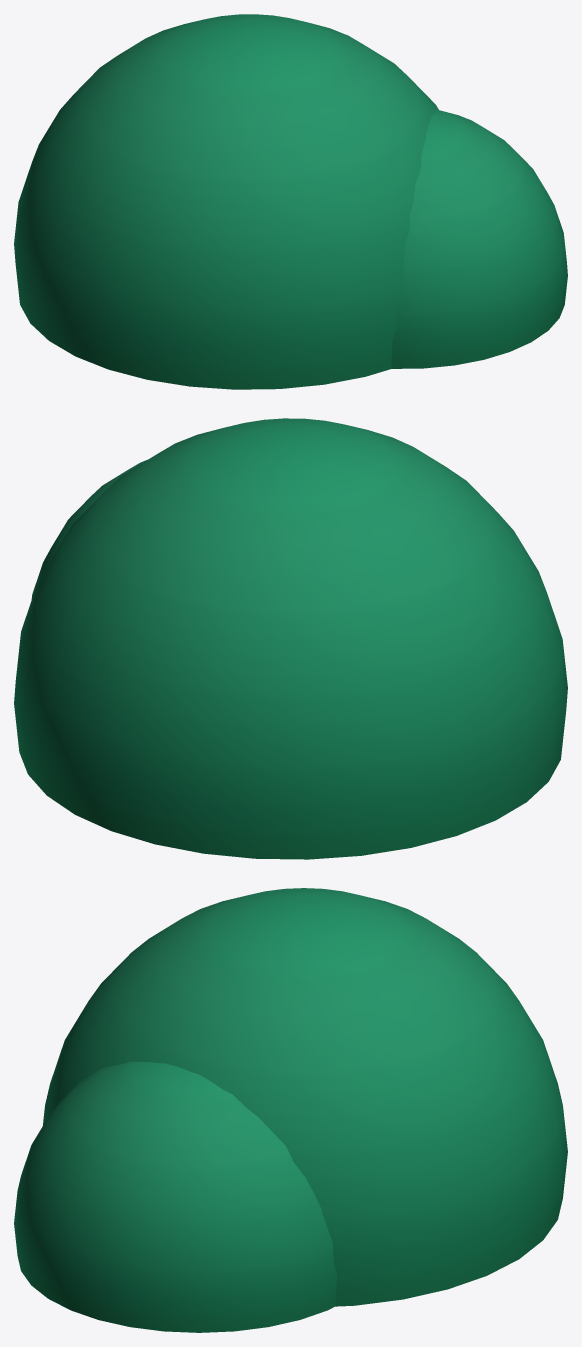
The model's file is Bush2.fbx.
3 renders of one model, top to bottom at view 1: azimuth 30°, elevation 25°; view 2: azimuth 150°, elevation 25°; view 3: azimuth 270°, elevation 25°, orthographic. The views are drawn at different scales.
Visible parts, largest first — view 1: Sphere.001, Sphere.002; view 2: Sphere.001, Sphere.002; view 3: Sphere.001, Sphere.002.
Part boxes in pixels (x1,y1,x2,y2): Sphere.001: (14,14,438,389); Sphere.002: (391,109,567,368); Sphere.001: (14,418,567,859); Sphere.002: (31,460,146,599); Sphere.001: (43,888,567,1306); Sphere.002: (14,1061,336,1332).
Size of the model in its own units: 179 by 96.36 by 169.
